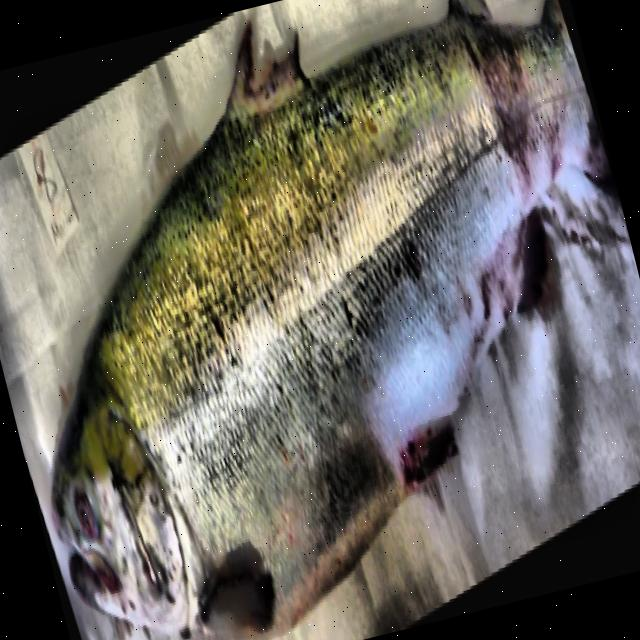mild_red: (85, 17, 610, 619)
